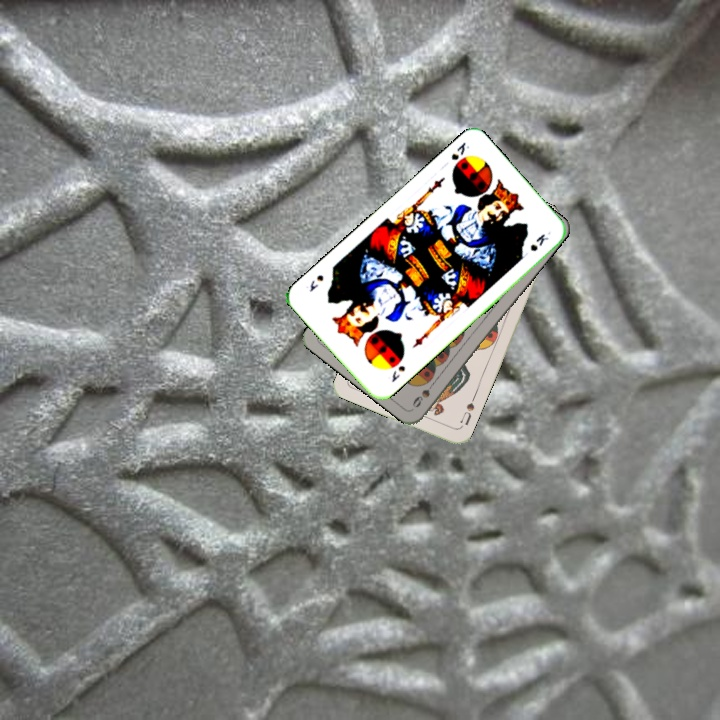S9: (408, 376, 439, 410)
SK: (447, 138, 472, 163), (387, 361, 408, 385)
SU: (456, 398, 477, 428)
